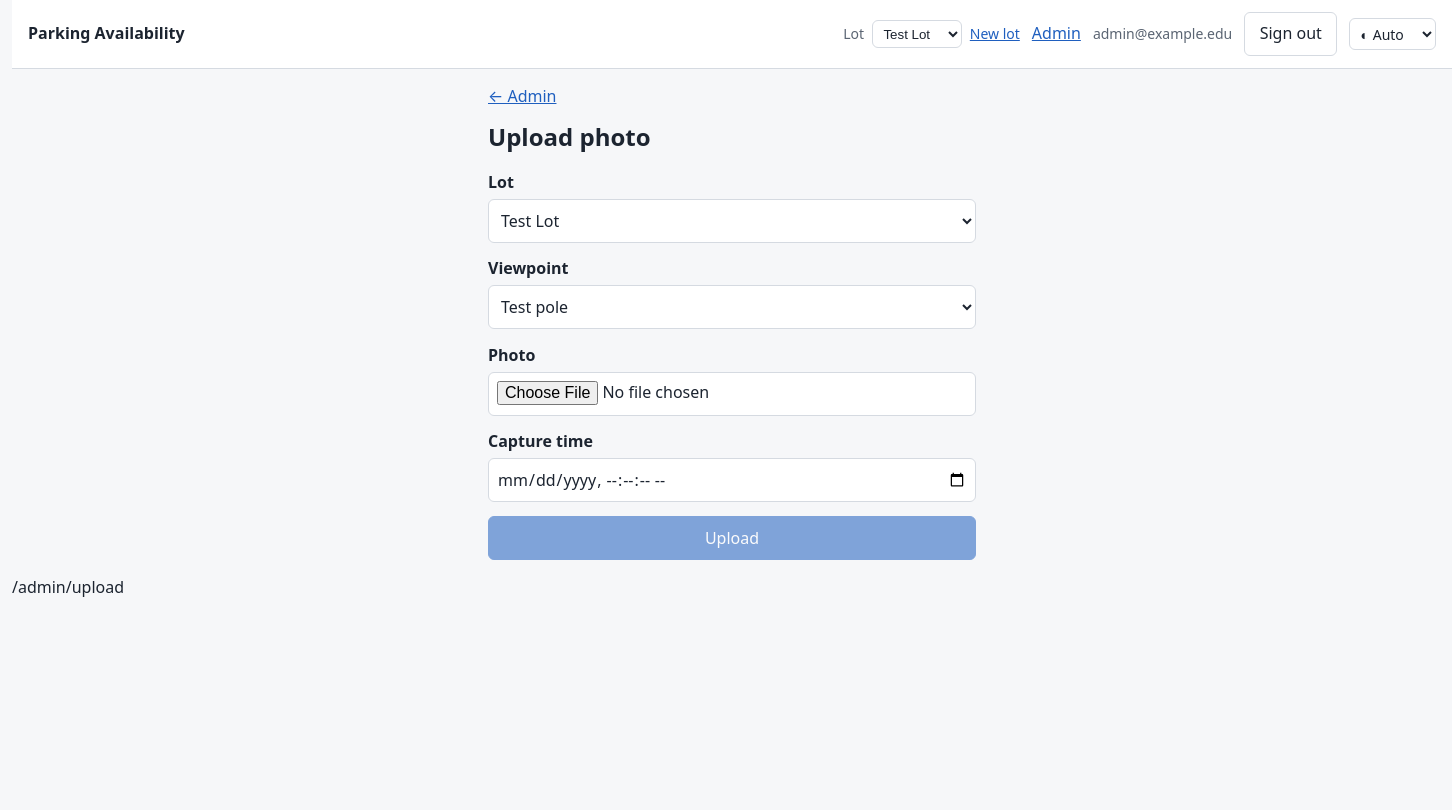
Scenario: US-16 #3: lot picker on every admin page › switching lots changes what Upload shows
Select "North Lot" in the dropdown named "Lot picker" at (917,34), box [872,20,962,48]
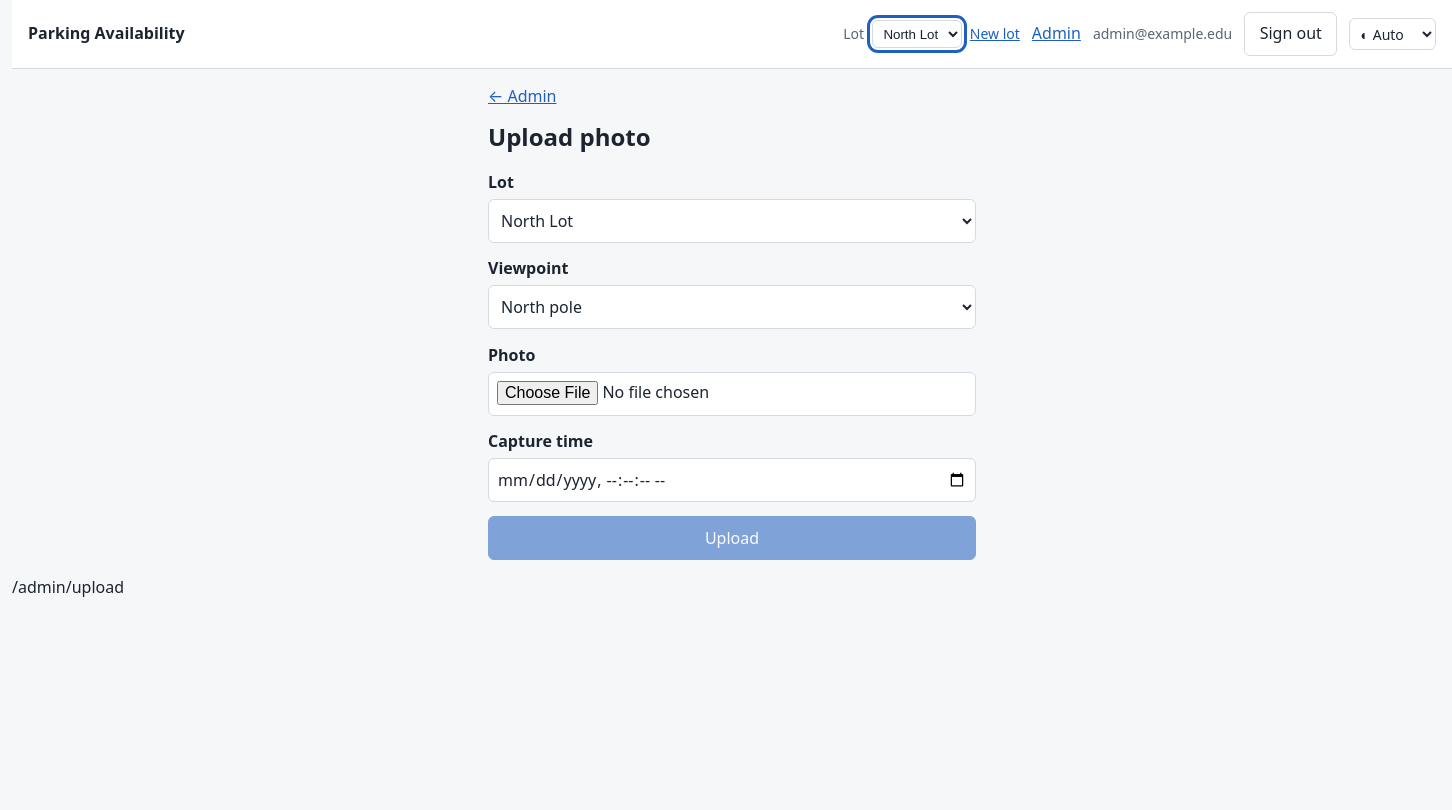
Expected: the option "Test pole" is not shown
Now the dropdown labelled "Lot" shows "North Lot", box [488,199,976,243]
